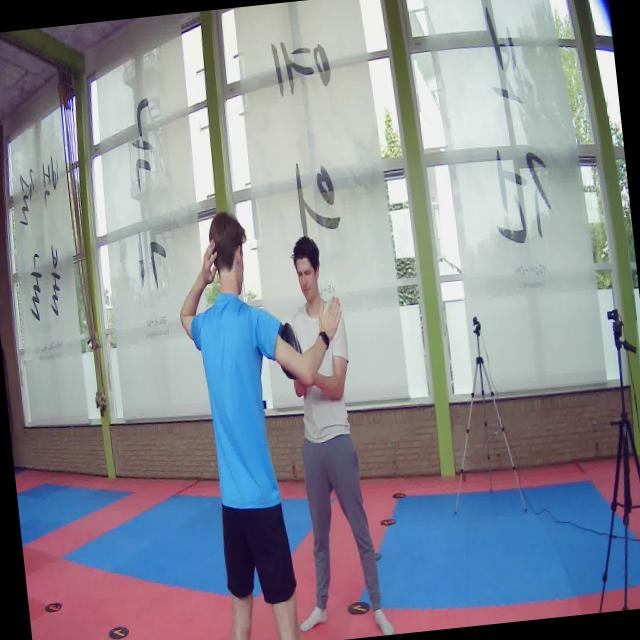paddle: (275, 321, 303, 380)
